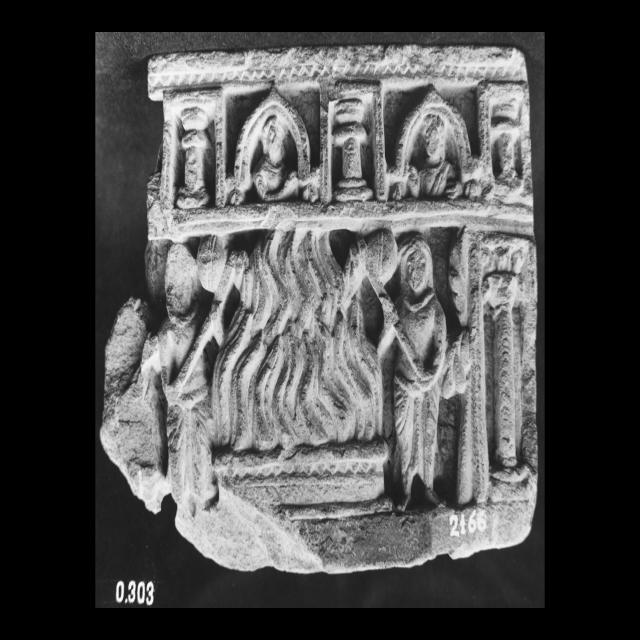buddha-pyre: (211, 229, 388, 509)
